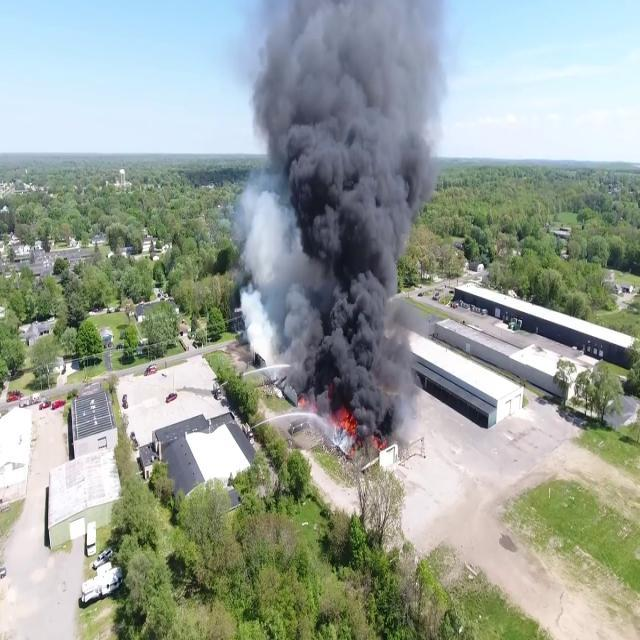Smoke: (248, 0, 450, 441)
